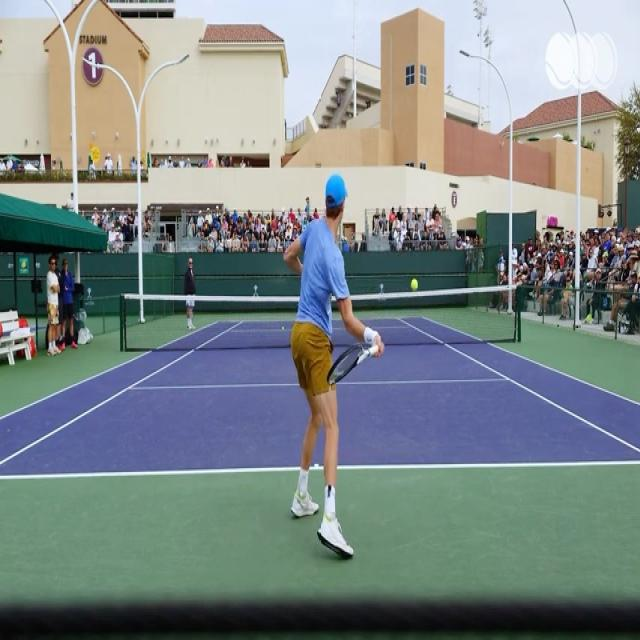forehand-stroke: (284, 167, 382, 564)
